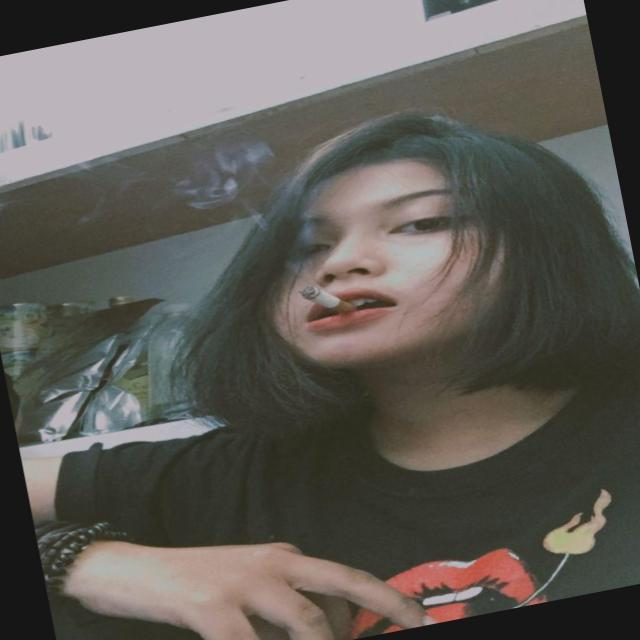smoke: (278, 265, 362, 329)
